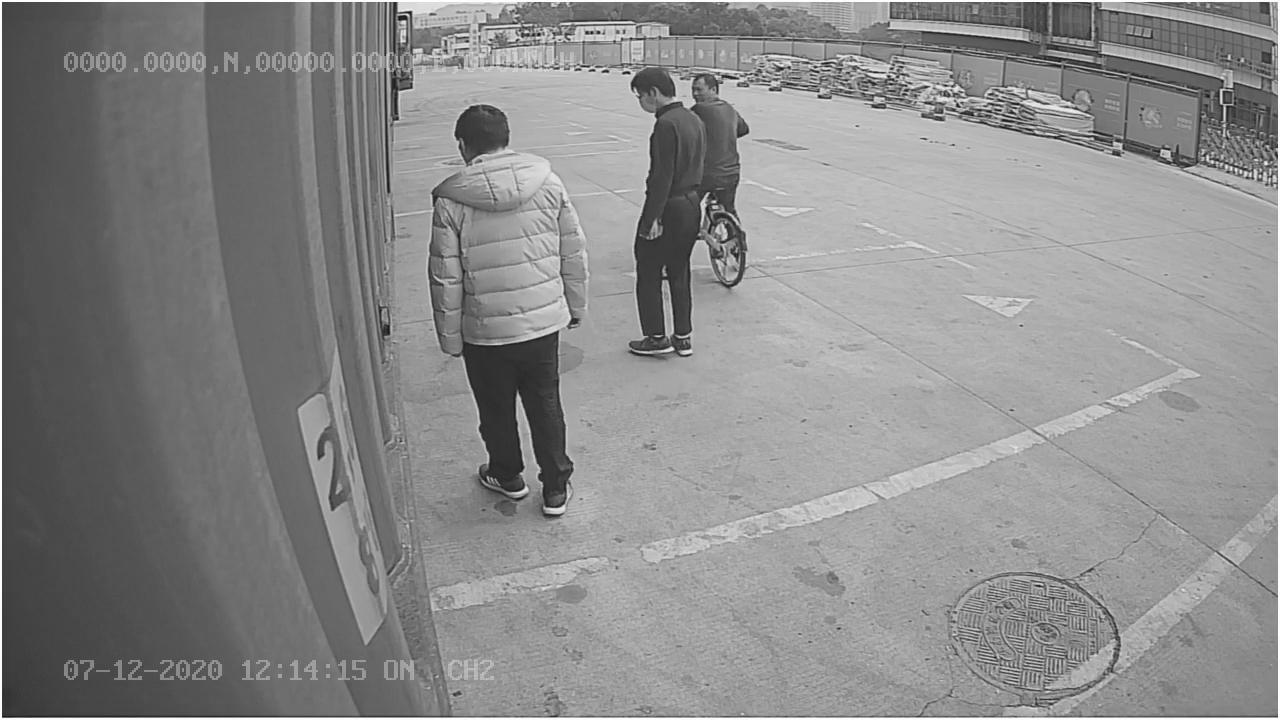person: (427, 100, 591, 526)
